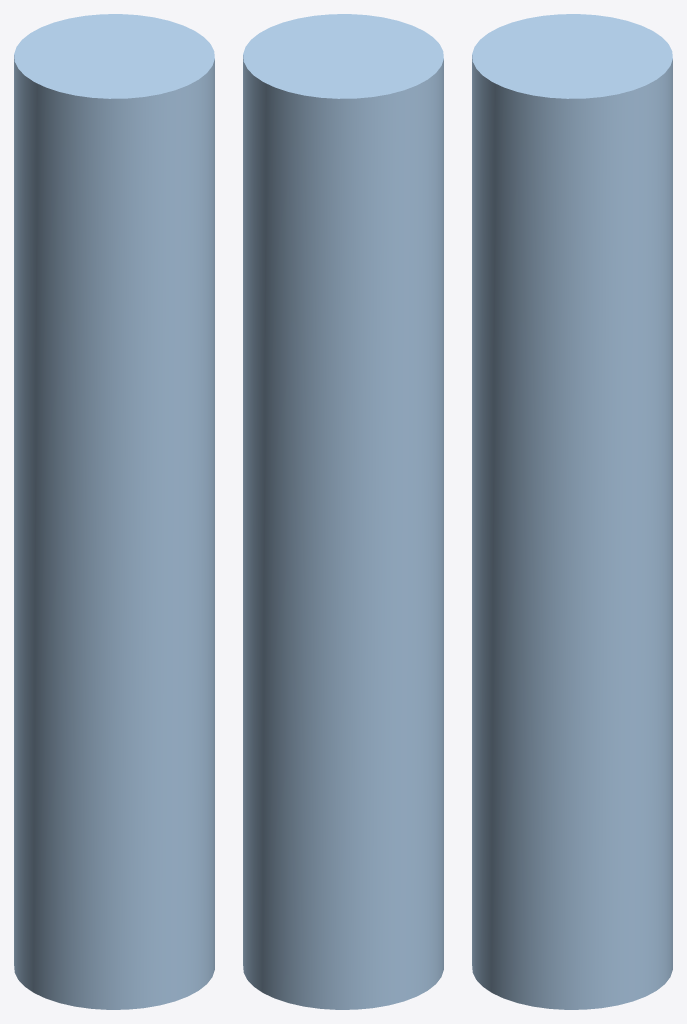
File: asset.glb
3 views of the same model, side by side, from view 1: azimuth 30°, elevation 25°; view 2: azimuth 150°, elevation 25°; view 3: azimuth 270°, elevation 25° (orthographic).
Visible parts, largest first — view 1: 3DGeom-5; view 2: 3DGeom-5; view 3: 3DGeom-5.
Part boxes in pixels (x1,y1,x2,y2): 3DGeom-5: (14, 14, 214, 1009); 3DGeom-5: (243, 14, 443, 1009); 3DGeom-5: (472, 14, 672, 1009).
Bounding box in the file's own units: 0.9986 × 5 × 0.9986.
